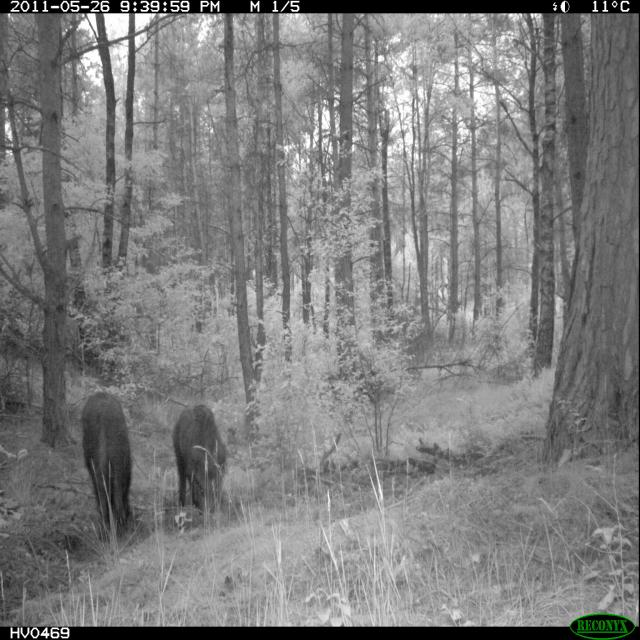boar: (163, 383, 247, 522), (78, 384, 142, 538)
